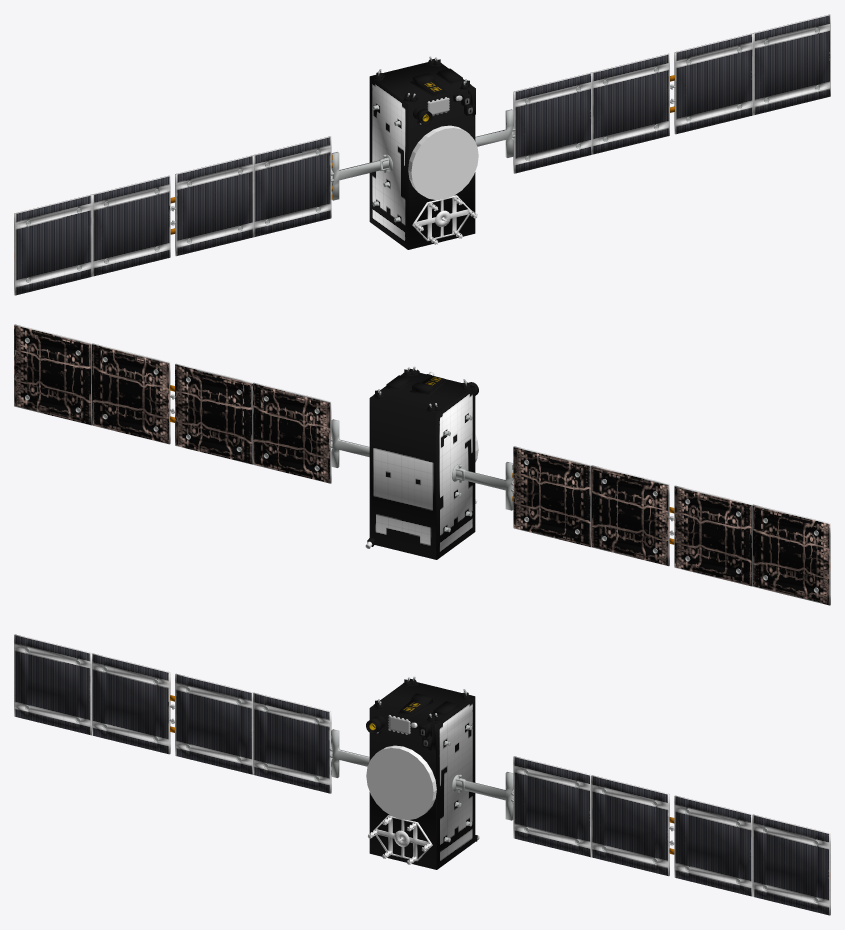
File: galileo.obj
3 renders of one model, top to bottom at view 1: azimuth 30°, elevation 25°; view 2: azimuth 150°, elevation 25°; view 3: azimuth 330°, elevation 25°, orthographic.
Parts seen in each view (by area): view 1: paneles; view 2: paneles; view 3: paneles.
Part boxes in pixels (bbox=[...]): paneles: bbox=[14, 14, 830, 295]; paneles: bbox=[14, 324, 830, 605]; paneles: bbox=[14, 634, 830, 915].
Bounding box in the file's own units: 57.75 × 10.44 × 6.26.
2 materials, 2 textured.
